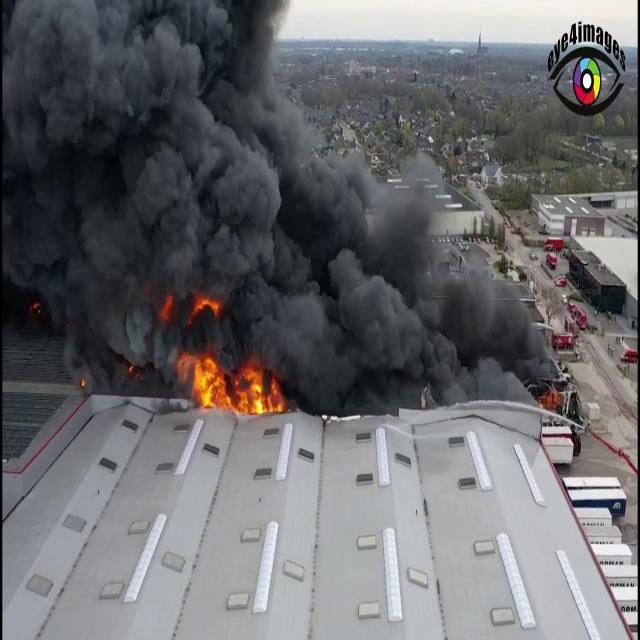Fire: (181, 346, 281, 416)
Smoke: (7, 0, 300, 407), (303, 160, 562, 408)
